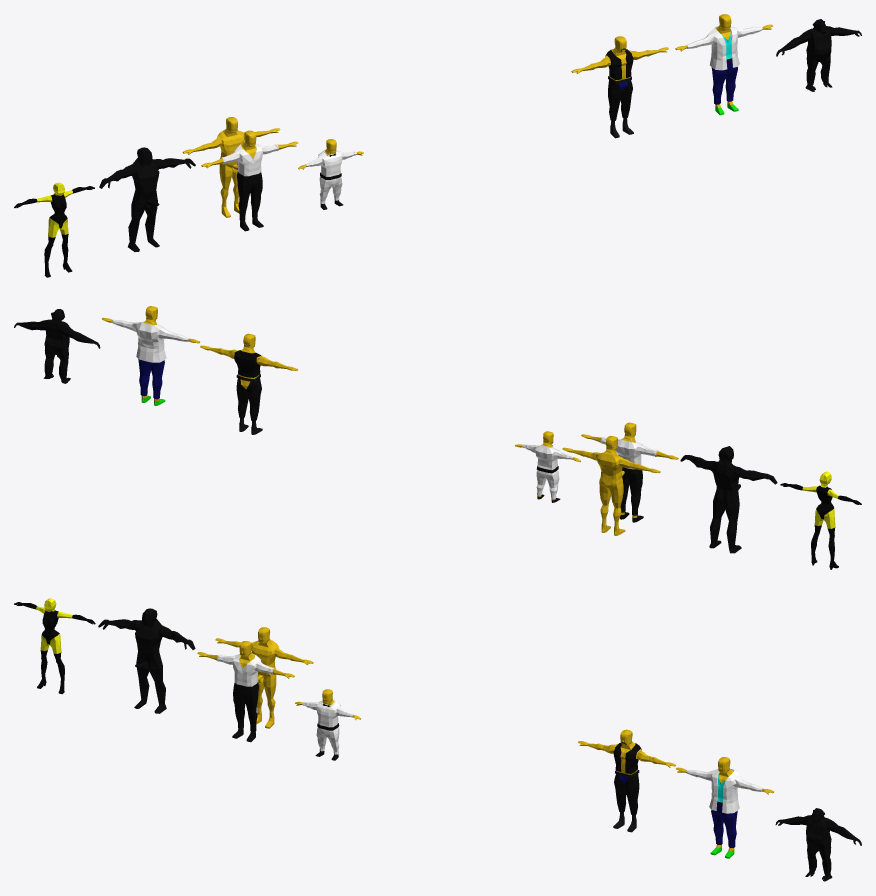
3 views of the same model, one above another, from view 1: azimuth 30°, elevation 25°; view 2: azimuth 150°, elevation 25°; view 3: azimuth 330°, elevation 25° (orthographic).
Parts seen in each view (by area): view 1: Reginaldo, Dealer, Rogerio, Bofia, Macaco, Rogerio Nu, Dom, Sr. Tono; view 2: Reginaldo, Dealer, Bofia, Rogerio Nu, Rogerio, Macaco, Dom, Sr. Tono; view 3: Reginaldo, Dealer, Rogerio, Bofia, Macaco, Rogerio Nu, Dom, Sr. Tono.
Part boxes in pixels (x1,y1,x2,y2): Reginaldo: (99,147,195,251); Dealer: (675,14,773,115); Rogerio: (201,130,298,231); Bofia: (571,36,668,138); Macaco: (776,19,861,91); Rogerio Nu: (182,117,280,217); Dom: (14,182,94,277); Sr. Tono: (298,139,363,209); Reginaldo: (680,446,777,553); Dealer: (102,306,199,405); Bofia: (200,333,297,434); Rogerio Nu: (562,436,660,535); Rogerio: (581,422,678,522); Macaco: (14,309,100,383); Dom: (780,471,861,569); Sr. Tono: (515,431,580,502); Reginaldo: (98,608,195,713); Dealer: (676,757,773,858); Rogerio: (197,641,294,742); Bofia: (578,729,675,832); Macaco: (775,808,861,881); Rogerio Nu: (215,627,313,728); Dom: (14,598,95,694); Sr. Tono: (295,689,360,760).
Size of the model in its own units: 763 by 86.83 by 51.11.
